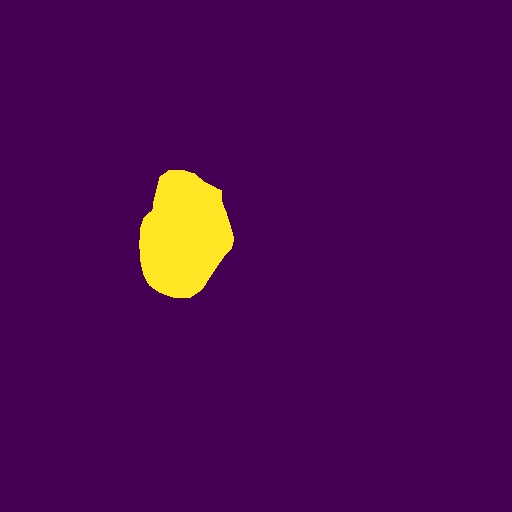Gliomia_tumour: (139, 170, 234, 298)
